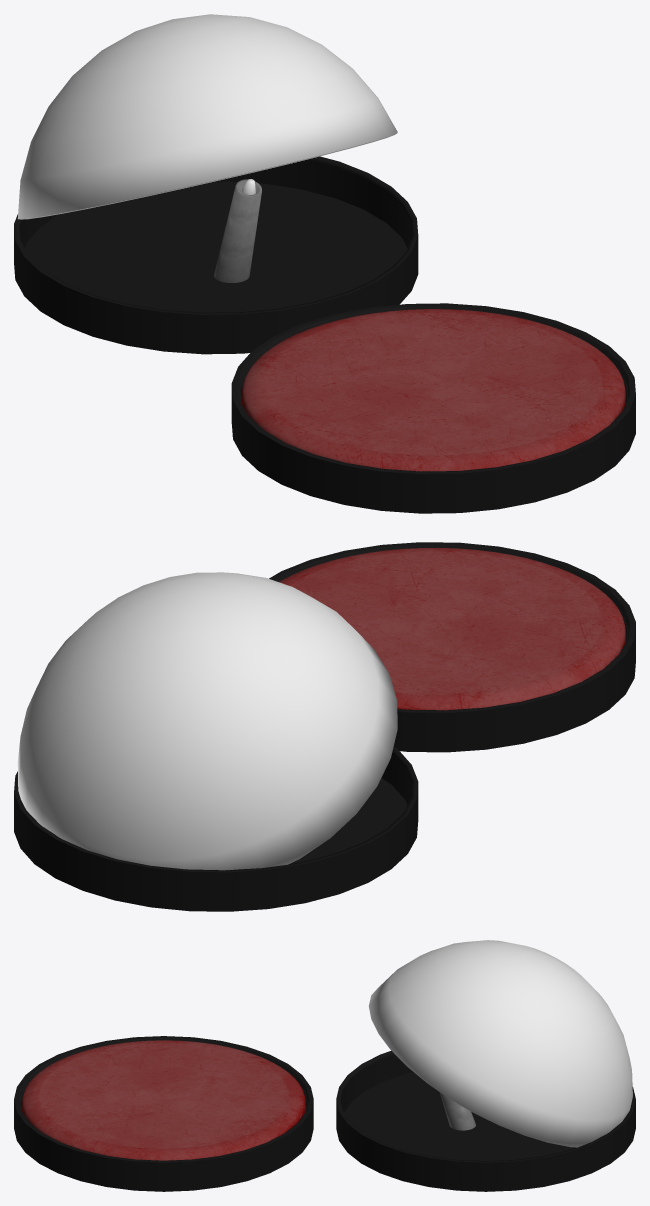
The model's file is knopka .fbx.
3 renders of one model, top to bottom at view 1: azimuth 30°, elevation 25°; view 2: azimuth 150°, elevation 25°; view 3: azimuth 270°, elevation 25°, orthographic. The views are drawn at different scales.
Visible parts, largest first — view 1: Cylinder.001, Cylinder.002, Sphere, Cylinder, Cylinder.003; view 2: Sphere, Cylinder.002, Cylinder.001, Cylinder; view 3: Sphere, Cylinder.002, Cylinder.001, Cylinder, Cylinder.003.
Boxes of the visible parts, x1,y1,x2,y2 form: Cylinder.001: (14,156,418,354); Cylinder.002: (241,309,625,471); Sphere: (17,14,397,219); Cylinder: (231,303,635,513); Cylinder.003: (214,179,261,282); Sphere: (17,572,397,870); Cylinder.002: (279,548,625,710); Cylinder.001: (14,746,418,911); Cylinder: (269,542,635,752); Sphere: (368,940,632,1147); Cylinder.002: (21,1040,306,1160); Cylinder.001: (336,1050,635,1191); Cylinder: (14,1036,313,1191); Cylinder.003: (439,1092,475,1130).
Bounding box in the file's own units: 20.76 × 13.33 × 43.07.
